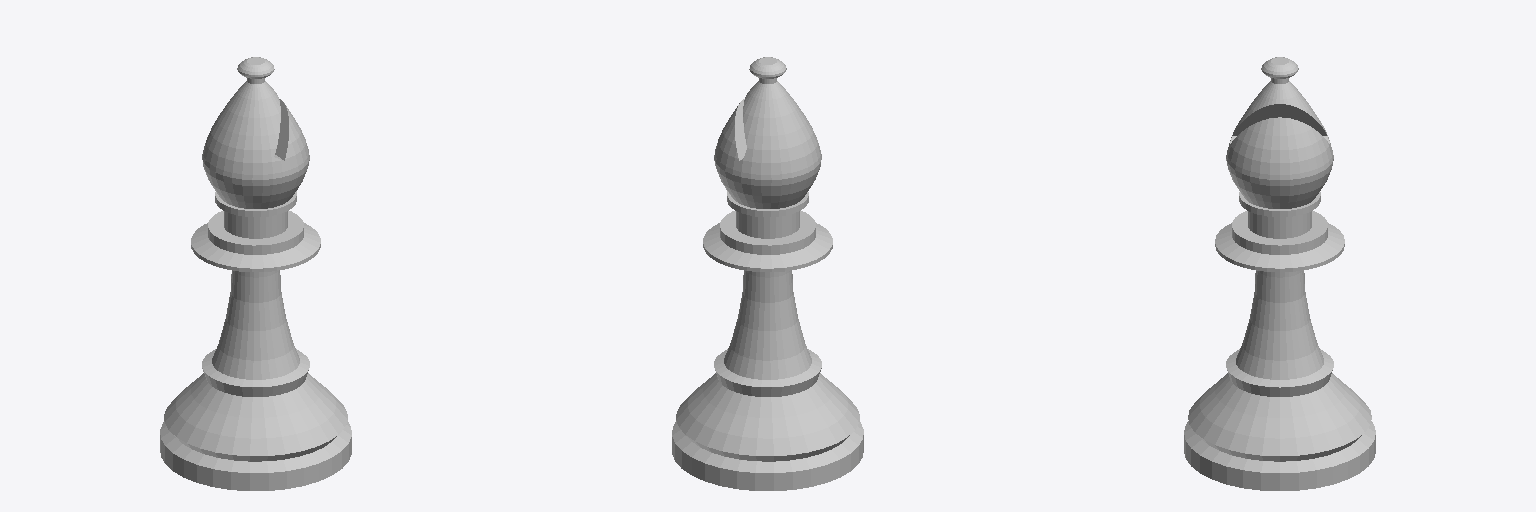
File: bishop.obj
3 renders of one model, left to right at view 1: azimuth 30°, elevation 25°; view 2: azimuth 150°, elevation 25°; view 3: azimuth 270°, elevation 25°, orthographic.
Parts seen in each view (by area): view 1: Cylinder_Cylinder.002; view 2: Cylinder_Cylinder.002; view 3: Cylinder_Cylinder.002.
Part boxes in pixels (bbox=[...]): Cylinder_Cylinder.002: bbox=[160, 57, 351, 490]; Cylinder_Cylinder.002: bbox=[672, 57, 863, 490]; Cylinder_Cylinder.002: bbox=[1184, 57, 1375, 490].
Size of the model in its own units: 2.2 by 4.91 by 2.2.